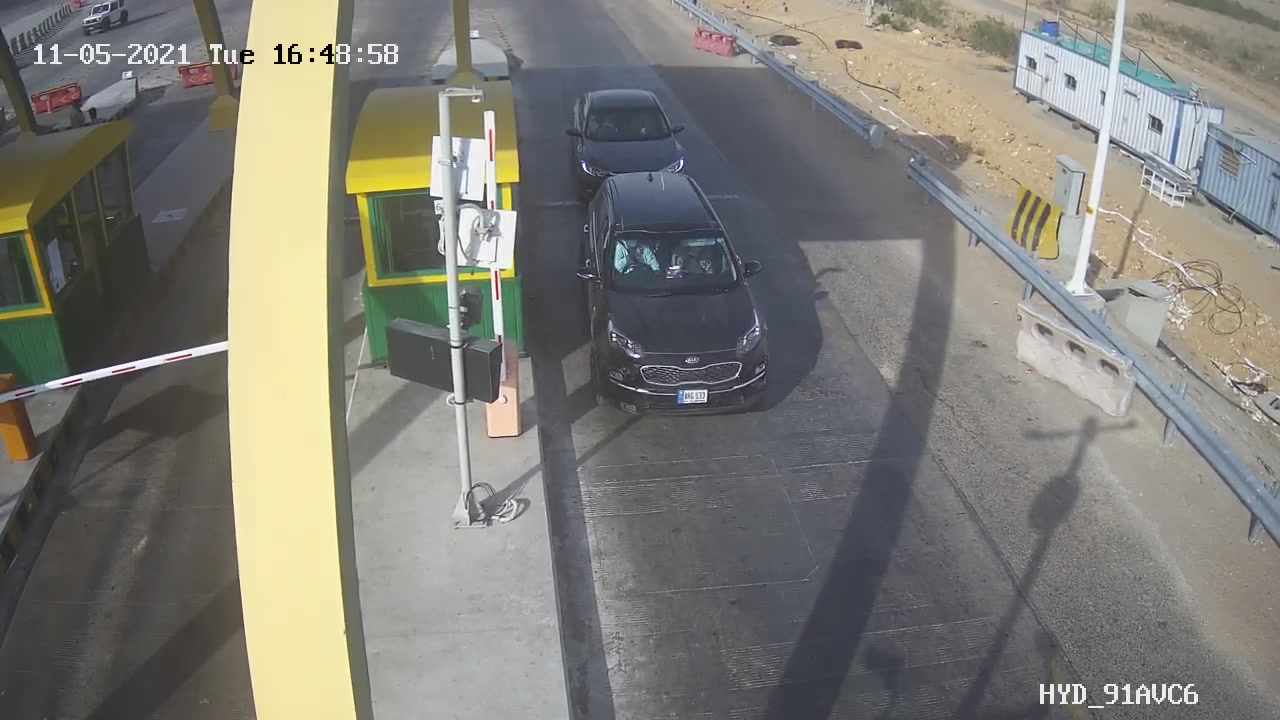F1: (559, 152, 801, 438)
